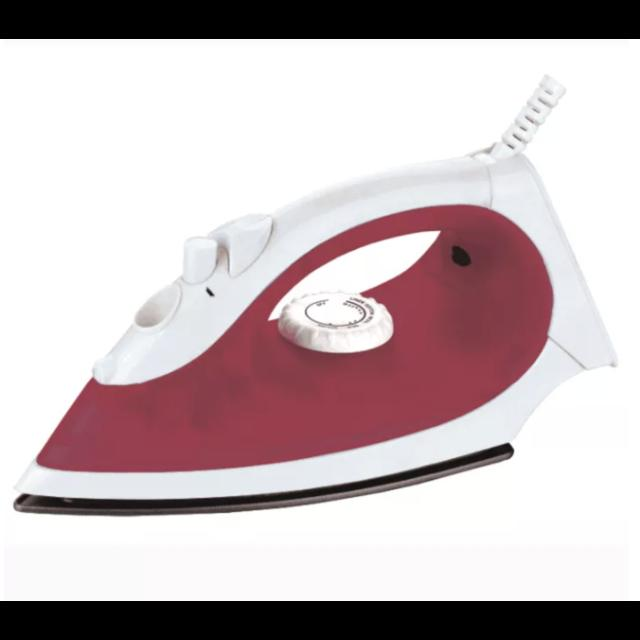Clothes-Iron: (7, 138, 631, 524)
